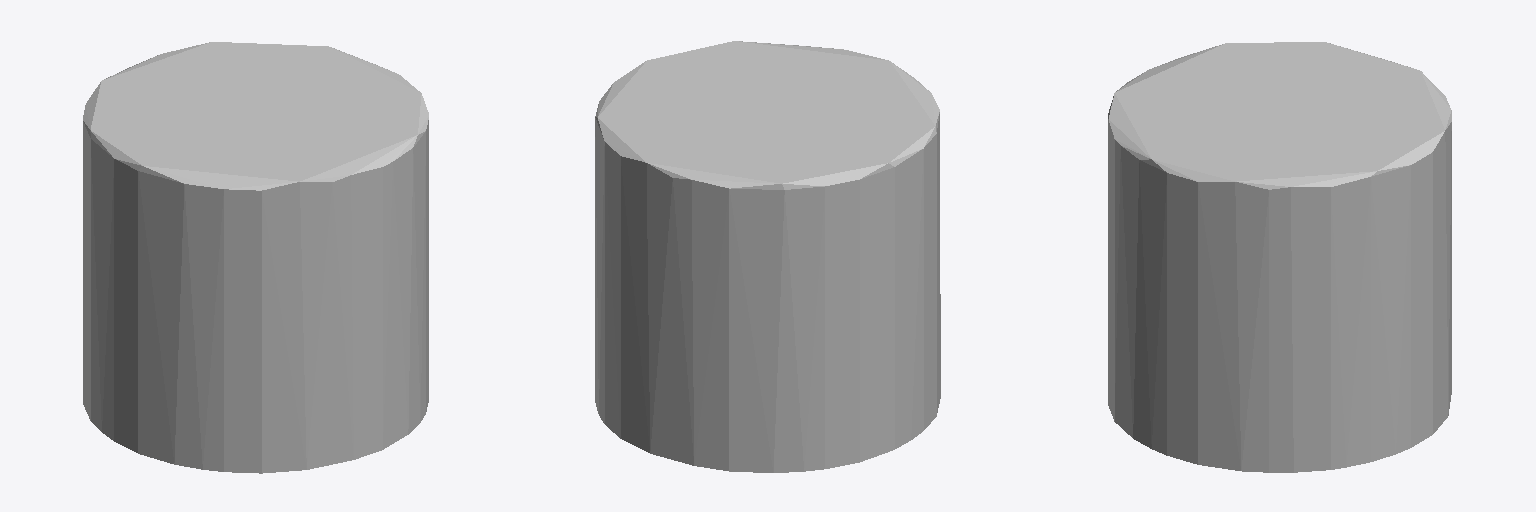
The model's file is original-2_vhacd.obj.
The picture shows the model from 3 angles: view 1: azimuth 30°, elevation 25°; view 2: azimuth 150°, elevation 25°; view 3: azimuth 270°, elevation 25°; orthographic projection.
Parts seen in each view (by area): view 1: convex_0; view 2: convex_0; view 3: convex_0.
Boxes of the visible parts, <box> form: convex_0: <box>83,42,428,473</box>; convex_0: <box>595,41,940,472</box>; convex_0: <box>1108,42,1451,472</box>.
Bounding box in the file's own units: 0.299 × 0.2774 × 0.299.